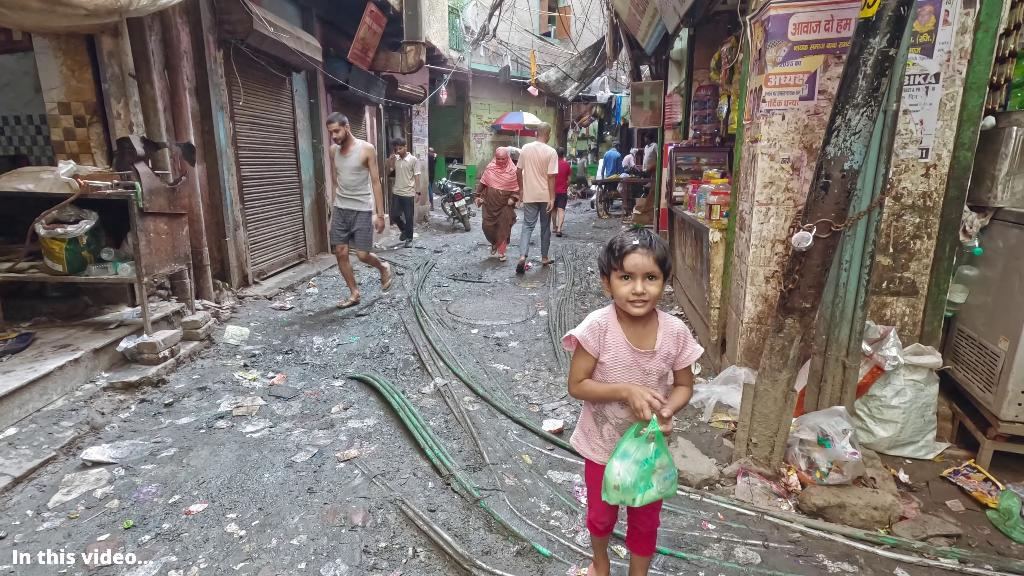garbage: (599, 415, 681, 508), (783, 400, 868, 489), (987, 488, 1024, 545), (539, 417, 566, 432)
